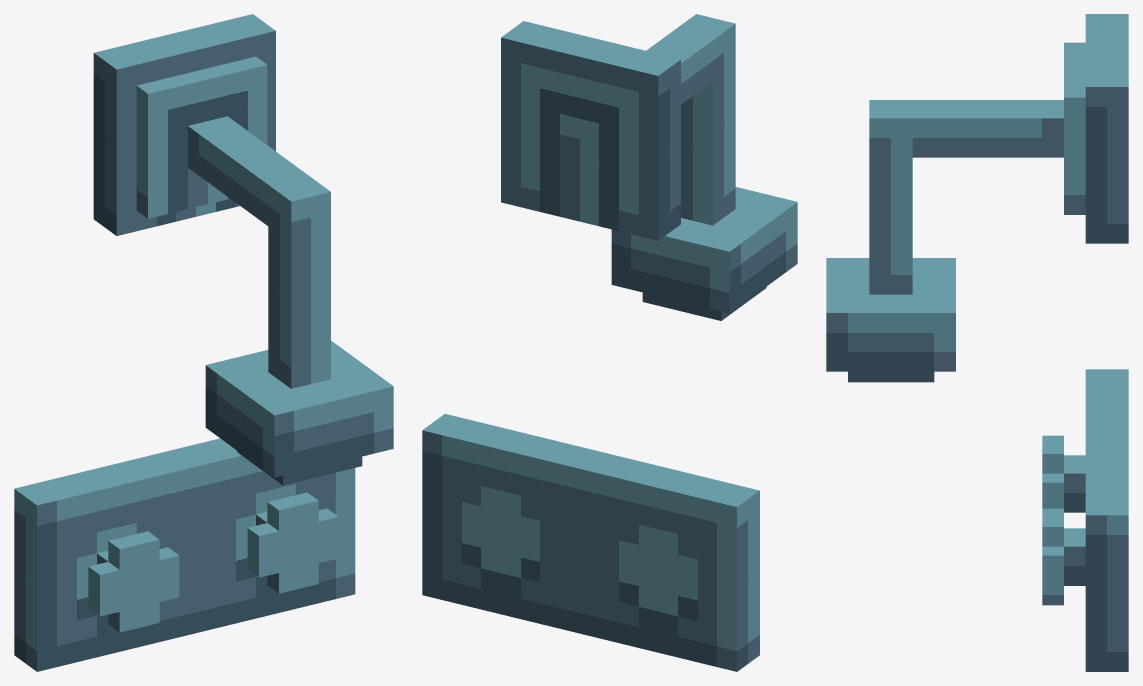
The model's file is shower_headao.fezao.glb.
The picture shows the model from 3 angles, left to right: view 1: azimuth 30°, elevation 25°; view 2: azimuth 150°, elevation 25°; view 3: azimuth 270°, elevation 25°; orthographic projection. The views are drawn at different scales.
Visible parts, largest first — view 1: SHOWER_HEADAO; view 2: SHOWER_HEADAO; view 3: SHOWER_HEADAO.
Part boxes in pixels (box(x1,y1,x2,y2)): SHOWER_HEADAO: box(14, 14, 393, 671); SHOWER_HEADAO: box(422, 14, 797, 671); SHOWER_HEADAO: box(826, 14, 1128, 671).
Bounding box in the file's own units: 1 × 1.75 × 0.875.
1 material, 1 textured.
